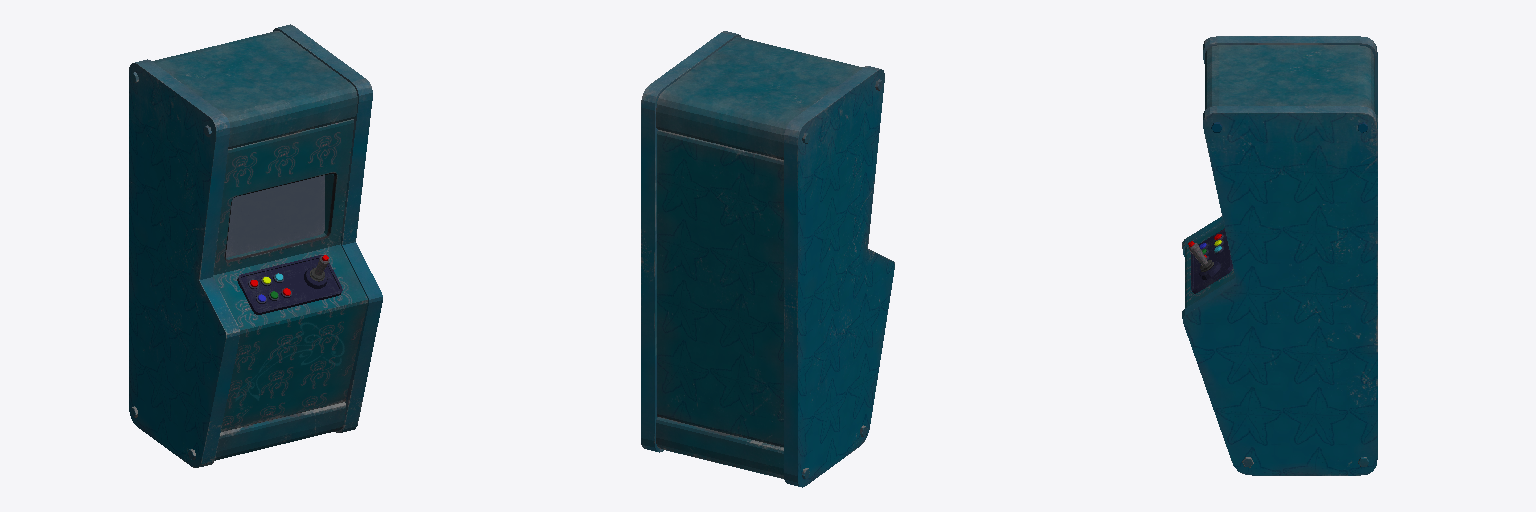
3 views of the same model, side by side, from view 1: azimuth 30°, elevation 25°; view 2: azimuth 150°, elevation 25°; view 3: azimuth 270°, elevation 25° (orthographic).
Visible parts, largest first — view 1: machine01; view 2: machine01; view 3: machine01.
Part boxes in pixels (x1,y1,x2,y2): machine01: (129,24,382,467); machine01: (641,31,894,487); machine01: (1182,36,1377,475).
Bounding box in the file's own units: 33.2 × 70.87 × 34.52.
Materials: 2 (2 with a texture image).